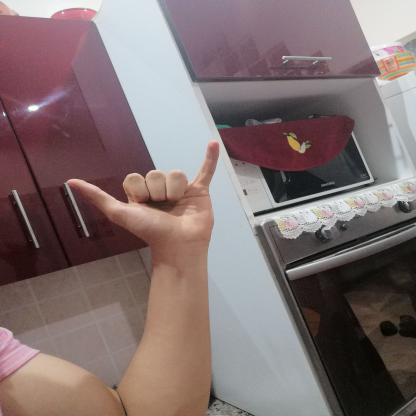YA: (54, 133, 236, 254)
